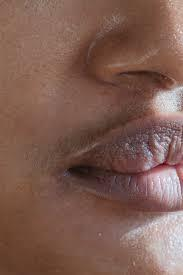Oily-Skin: (18, 0, 175, 244)
